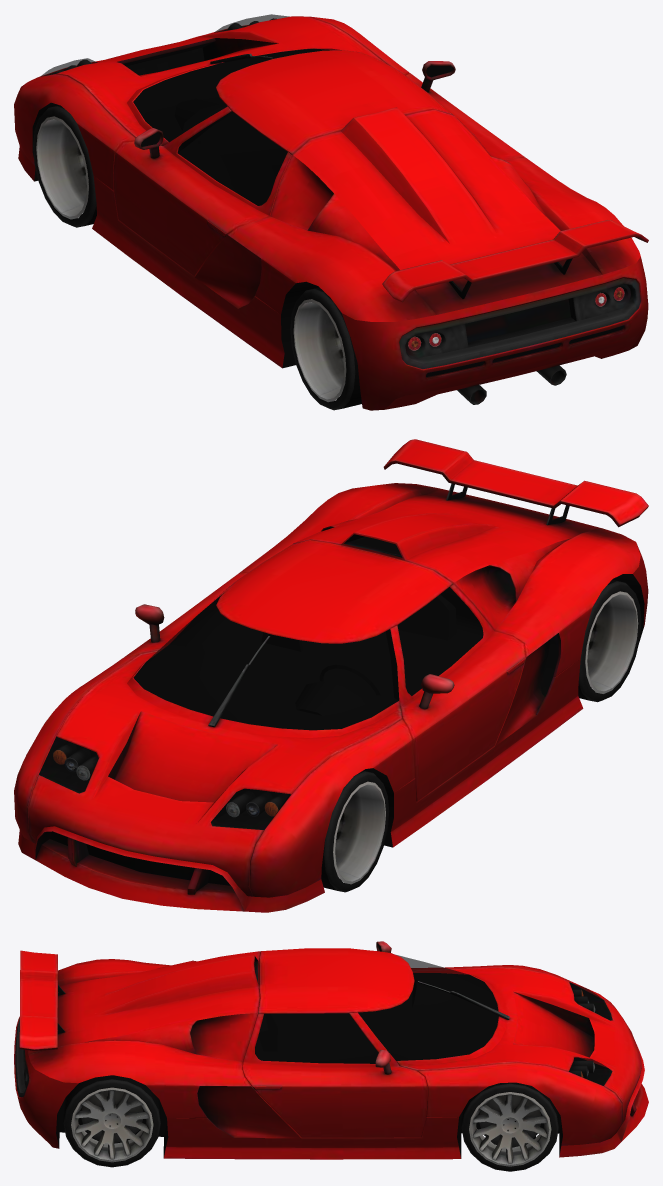
The model's file is sport.glb.
The picture shows the model from 3 angles, top to bottom: view 1: azimuth 30°, elevation 25°; view 2: azimuth 150°, elevation 25°; view 3: azimuth 270°, elevation 25°; orthographic projection. The views are drawn at different scales.
Parts seen in each view (by area): view 1: Sport_body, wheel_3, wheel_1; view 2: Sport_body, wheel_1, wheel_3; view 3: Sport_body, wheel_2, wheel_0.
Boxes of the visible parts, x1,y1,x2,y2 form: Sport_body: (14, 14, 648, 410); wheel_3: (290, 287, 361, 410); wheel_1: (33, 105, 96, 227); Sport_body: (14, 439, 648, 912); wheel_1: (321, 770, 389, 892); wheel_3: (578, 579, 641, 702); Sport_body: (14, 941, 648, 1159); wheel_2: (63, 1075, 160, 1167); wheel_0: (461, 1082, 558, 1171).
Size of the model in its own units: 1.99 by 1.17 by 4.4.
Materials: 4 (3 with a texture image).
